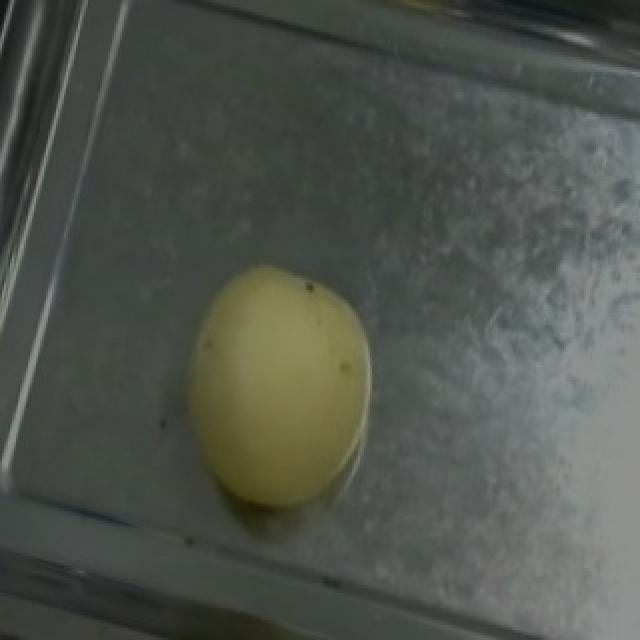Fruit: (140, 233, 410, 543)
